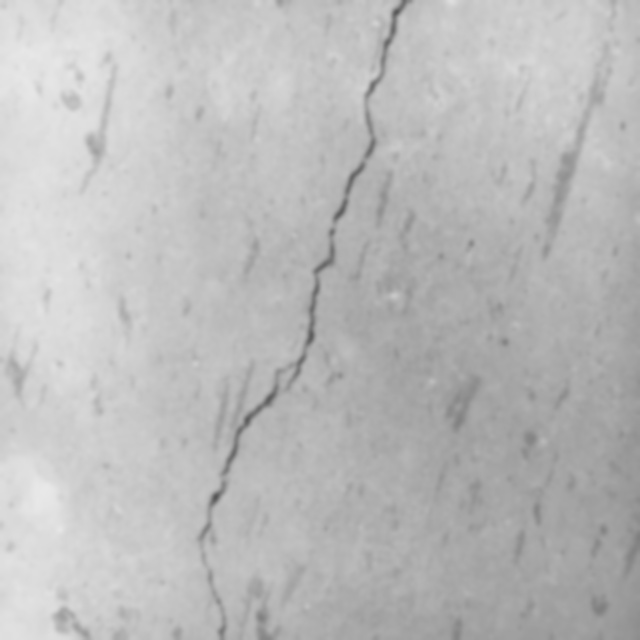SurfaceCrack: (173, 0, 433, 639)
